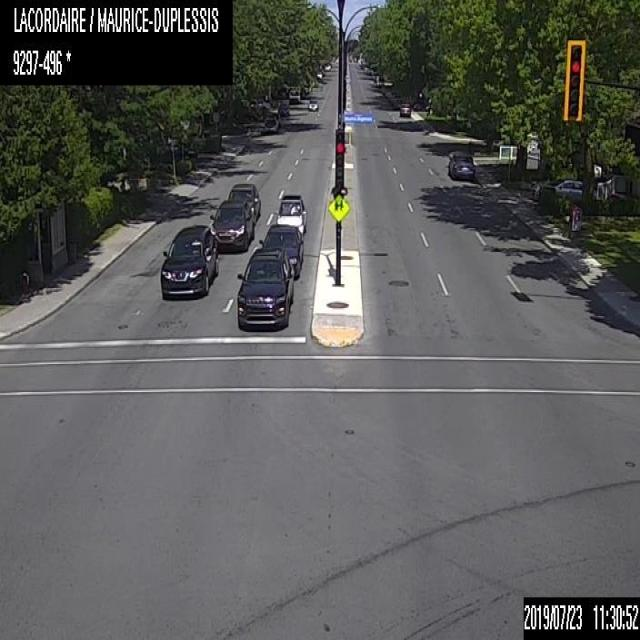vehicle: (235, 245, 294, 329), (158, 222, 219, 300), (209, 198, 254, 253), (260, 223, 304, 278), (532, 176, 597, 202), (225, 182, 259, 224), (276, 191, 305, 233), (448, 150, 474, 180), (162, 143, 196, 161), (262, 112, 280, 130), (247, 97, 269, 110), (276, 102, 289, 116), (398, 102, 411, 116), (306, 99, 319, 112), (424, 102, 436, 113), (288, 90, 299, 102), (392, 94, 401, 104), (325, 63, 330, 70), (316, 71, 320, 78)
